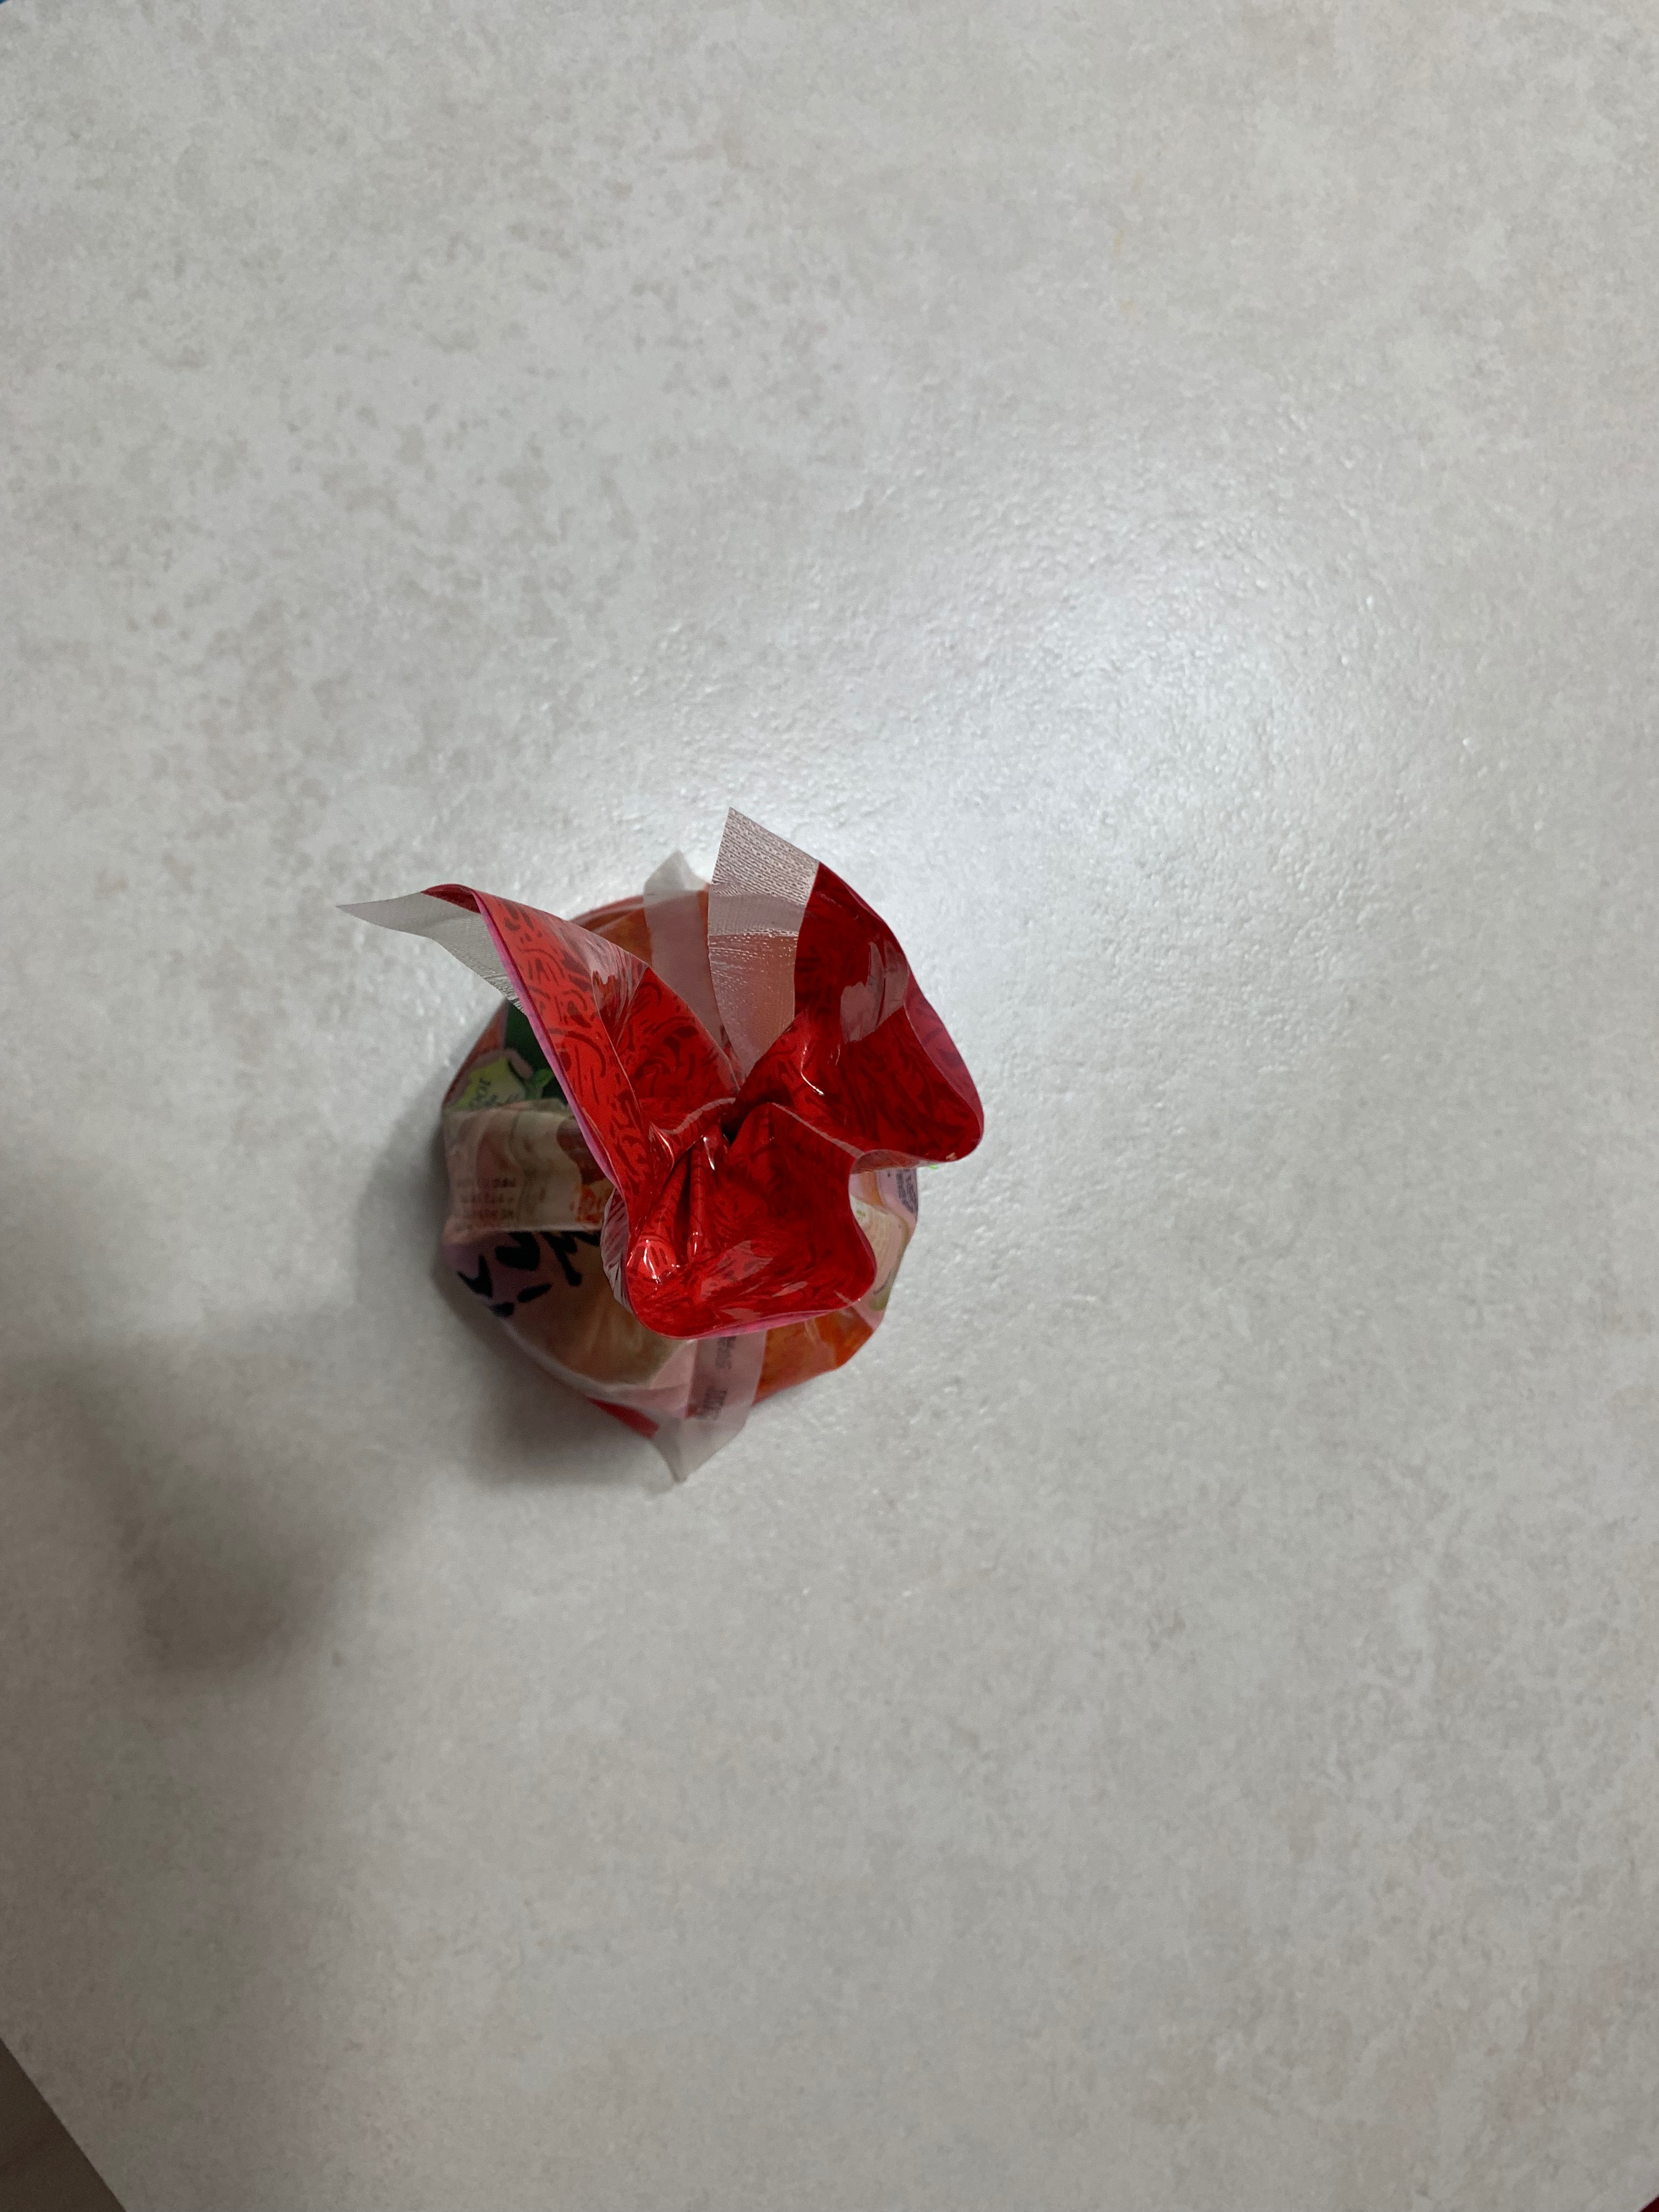kimchi: (347, 812, 986, 1489)
